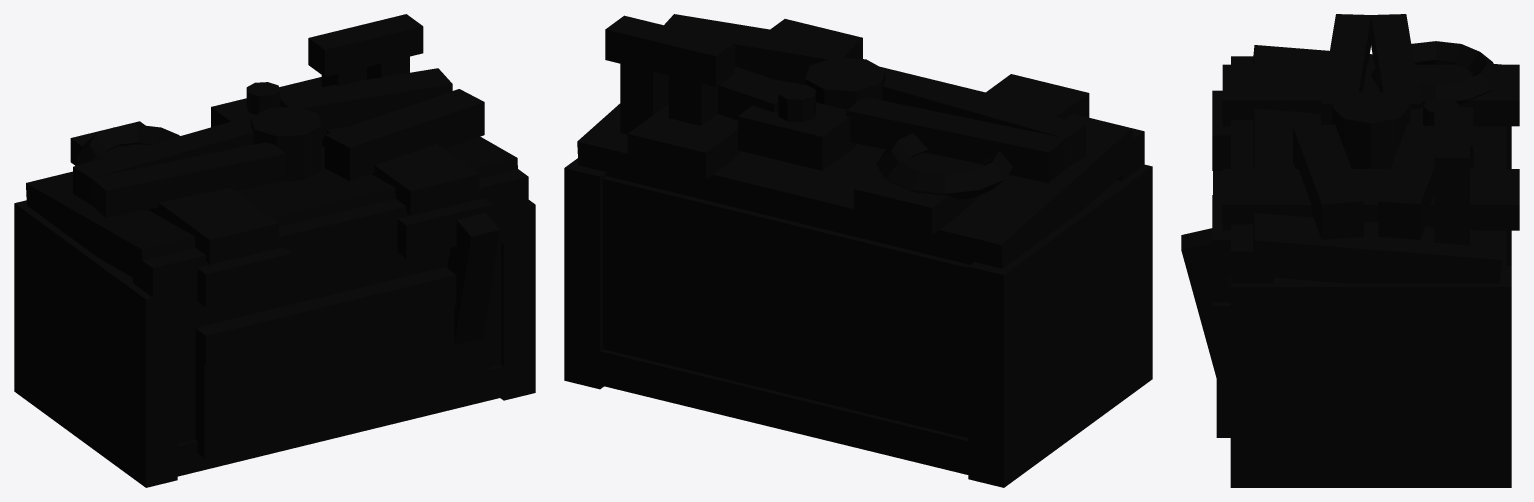
3 views of the same model, side by side, from view 1: azimuth 30°, elevation 25°; view 2: azimuth 150°, elevation 25°; view 3: azimuth 270°, elevation 25° (orthographic). The views are drawn at different scales.
Parts seen in each view (by area): view 1: defusekit; view 2: defusekit; view 3: defusekit.
Part boxes in pixels (bbox=[...]): defusekit: bbox=[14, 14, 535, 487]; defusekit: bbox=[564, 14, 1152, 487]; defusekit: bbox=[1181, 14, 1519, 487].
Bounding box in the file's own units: 0.24 × 0.1772 × 0.1693.
Materials: 1 (1 with a texture image).
